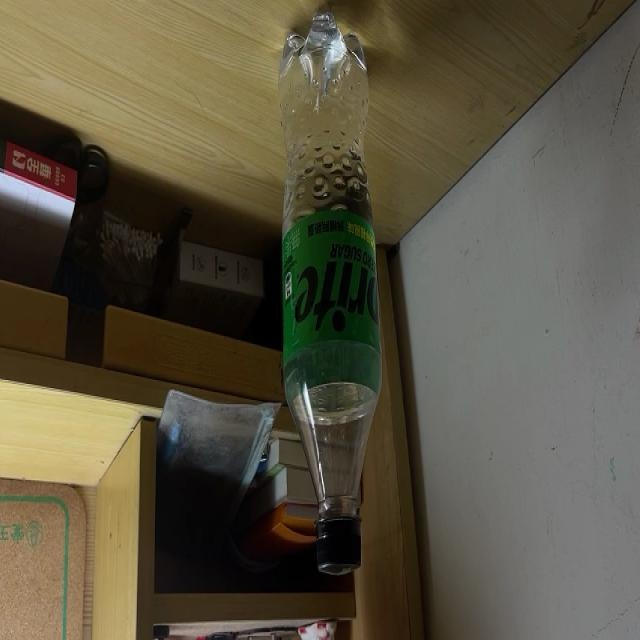Sprite: (278, 6, 384, 576)
